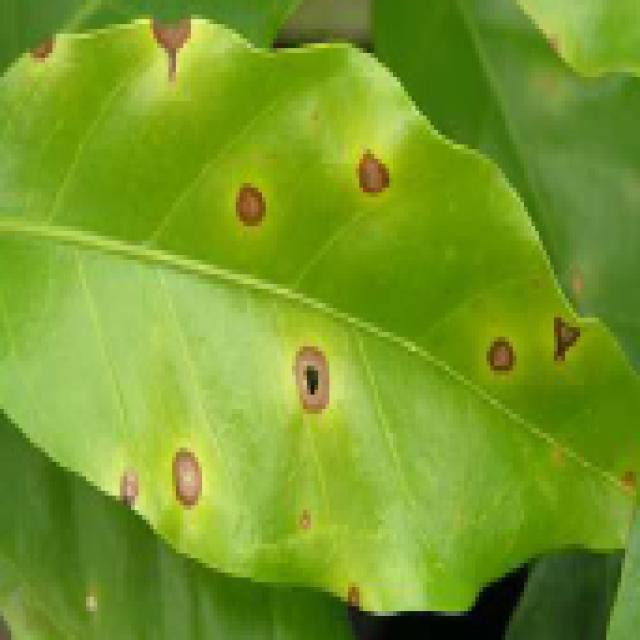Enfermedad-Mancha-de-hierro: (0, 19, 640, 616)
